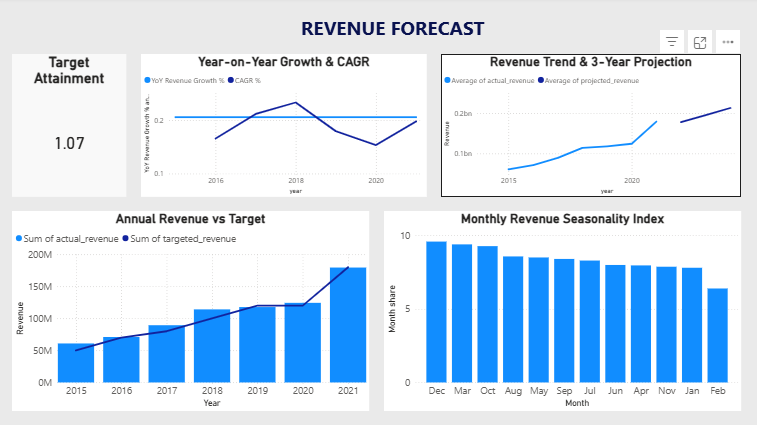

The page's visual inventory and layout, read from the dashboard file:
{"tool":"powerbi","page":{"name":"Revenue Forecast","canvas":[1280,720],"ordinal":3},"visuals":[{"type":"lineClusteredColumnComboChart","title":"Annual Revenue vs Target","fields":{"Y2":["Sum(presentation vw_revenue_actual_vs_target.targeted_revenue)"],"Y":["Sum(presentation vw_revenue_actual_vs_target.actual_revenue)"],"Category":["presentation vw_revenue_actual_vs_target.performance_year"]},"box":[24,360,600,336],"z":0},{"type":"card","title":"Target Attainment","fields":{"Values":["Measures_table.Target Achievement %"]},"box":[24,96,192,240],"z":1},{"type":"lineChart","title":"Year-on-Year Growth & CAGR","fields":{"Y":["Measures_table.YoY Revenue Growth %","Measures_table.CAGR %"],"Category":["presentation vw_revenue_growth.year"]},"box":[240,96,480,240],"z":2},{"type":"columnChart","title":"Monthly Revenue Seasonality Index","fields":{"Category":["presentation vw_revenue_seasonality.month_abbr"],"Y":["Sum(presentation vw_revenue_seasonality.avg_month_share_pct)"]},"box":[648,360,600,336],"z":3},{"type":"lineChart","title":"Revenue Trend & 3-Year Projection","fields":{"Category":["presentation vw_revenue_forecast_linear.year"],"Y":["Avg(presentation vw_revenue_forecast_linear.actual_revenue)","Avg(presentation vw_revenue_forecast_linear.projected_revenue)"]},"box":[744,96,504,240],"z":4},{"type":"textbox","box":[504,24,432,72],"z":5}]}

Visuals, with their boxes in screenshot pixels (x1, y1, x2, y2), scaled from the page's 1280x720 canvas onto the 757x425 screenshot:
"Annual Revenue vs Target" lineClusteredColumnComboChart: (14,212,369,411)
"Target Attainment" card: (14,57,128,198)
"Year-on-Year Growth & CAGR" lineChart: (142,57,426,198)
"Monthly Revenue Seasonality Index" columnChart: (383,212,738,411)
"Revenue Trend & 3-Year Projection" lineChart: (440,57,738,198)
textbox: (298,14,554,57)
